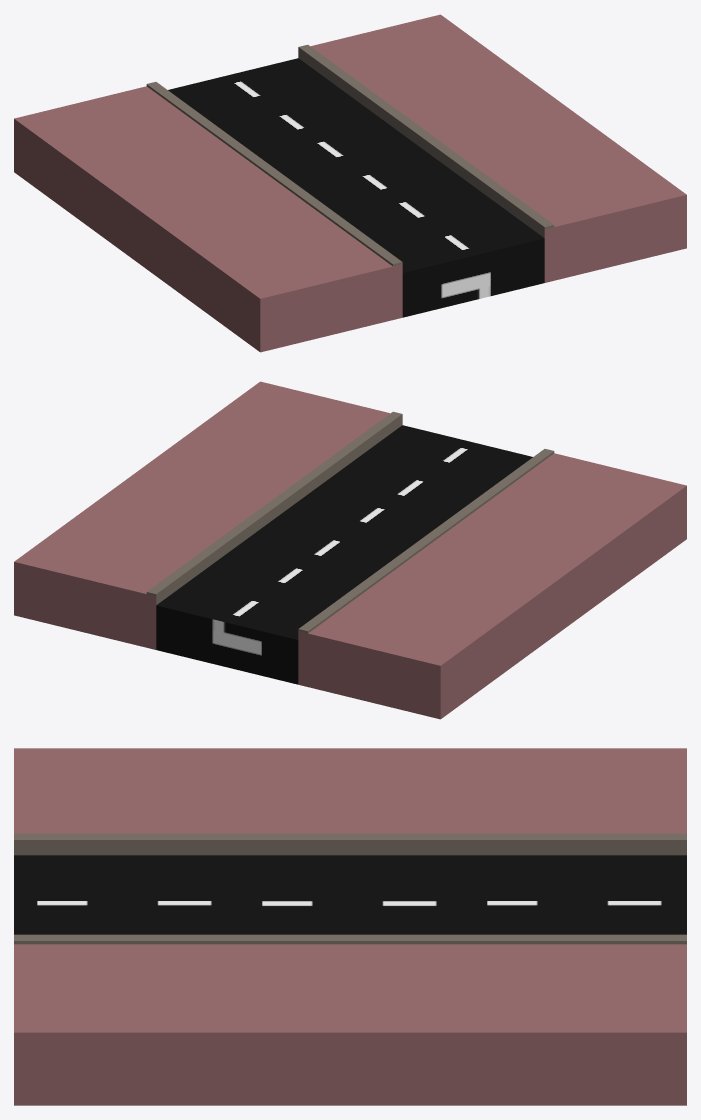
Rendered from M_Road_Straight.FBX.
The picture shows the model from 3 angles, top to bottom: view 1: azimuth 30°, elevation 25°; view 2: azimuth 150°, elevation 25°; view 3: azimuth 270°, elevation 25°; orthographic projection. The views are drawn at different scales.
Parts seen in each view (by area): view 1: Road_Straight; view 2: Road_Straight; view 3: Road_Straight.
Part boxes in pixels (bbox=[...]): Road_Straight: bbox=[14, 14, 686, 352]; Road_Straight: bbox=[14, 381, 686, 719]; Road_Straight: bbox=[14, 748, 686, 1105].
Size of the model in its own units: 10 by 10 by 1.25.
